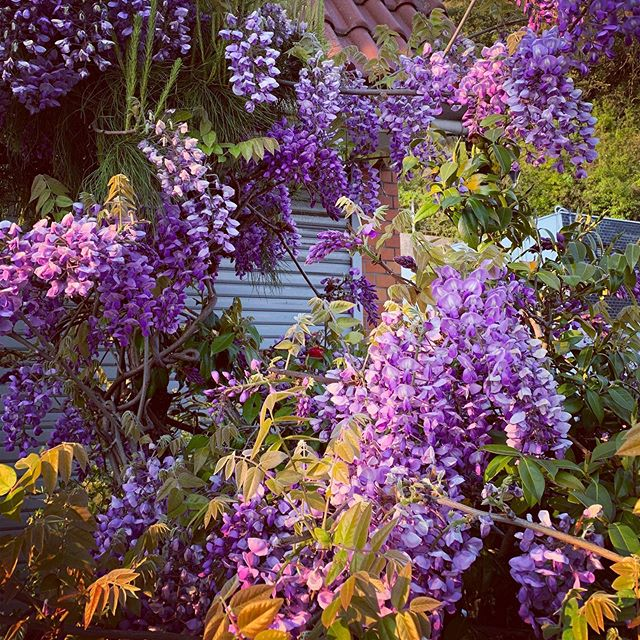flowers: (1, 1, 640, 640)
